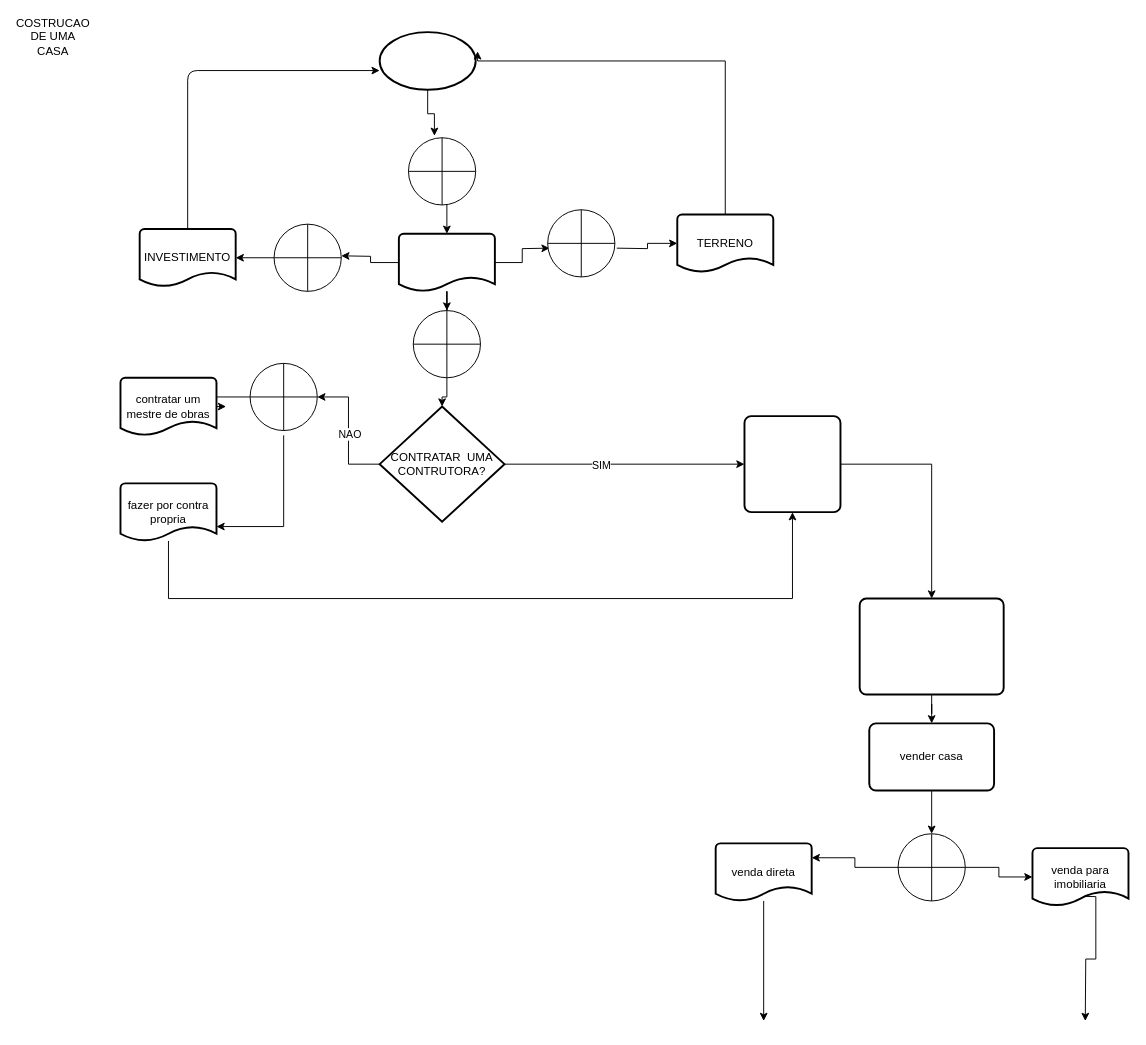
This 1146x1045 diagram has some shape labels left out. The shapes that lost their labels are listed below. From the top down, each one's centre as x and y in pixels, then its label:
point 427,60: INICIO
point 446,262: APROVAÇAO DO PROJETO
point 792,464: CONSTRUINDO
point 931,646: contratar um designer
